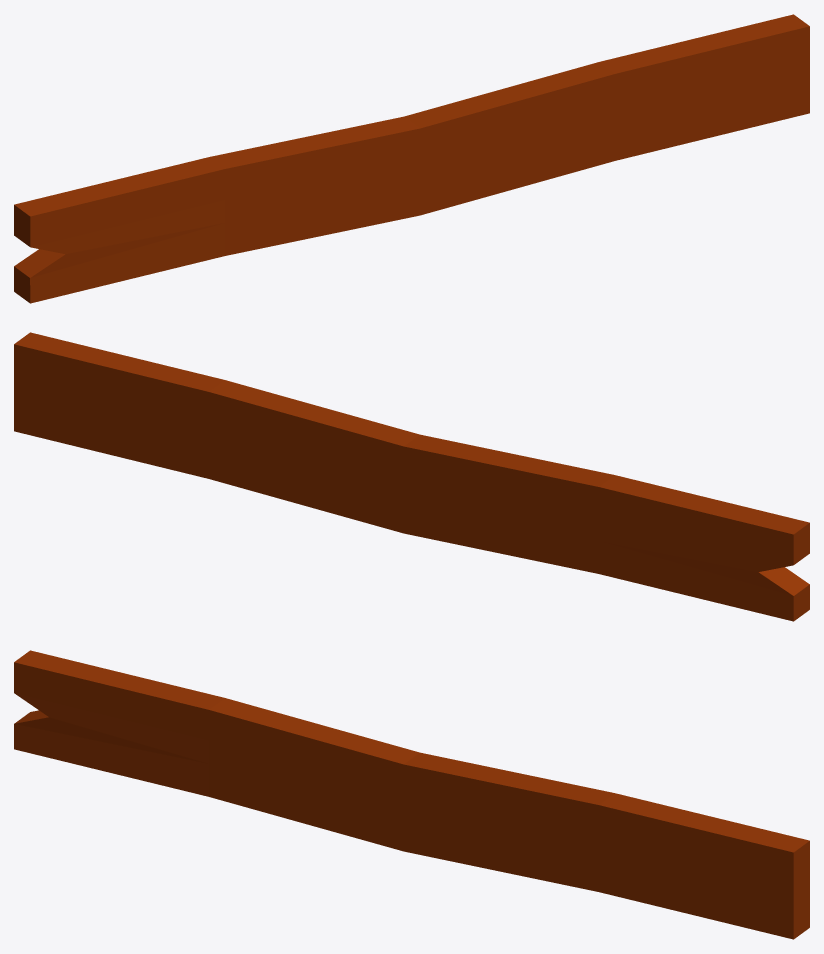
File: TabuaMadeira.fbx
3 views of the same model, one above another, from view 1: azimuth 30°, elevation 25°; view 2: azimuth 150°, elevation 25°; view 3: azimuth 330°, elevation 25° (orthographic).
Visible parts, largest first — view 1: TabuaMadeira; view 2: TabuaMadeira; view 3: TabuaMadeira.
Boxes of the visible parts, <box> form: TabuaMadeira: <box>14,14,809,303</box>; TabuaMadeira: <box>14,332,809,621</box>; TabuaMadeira: <box>14,650,809,939</box>.
Size of the model in its own units: 200 by 23.07 by 7.31.
